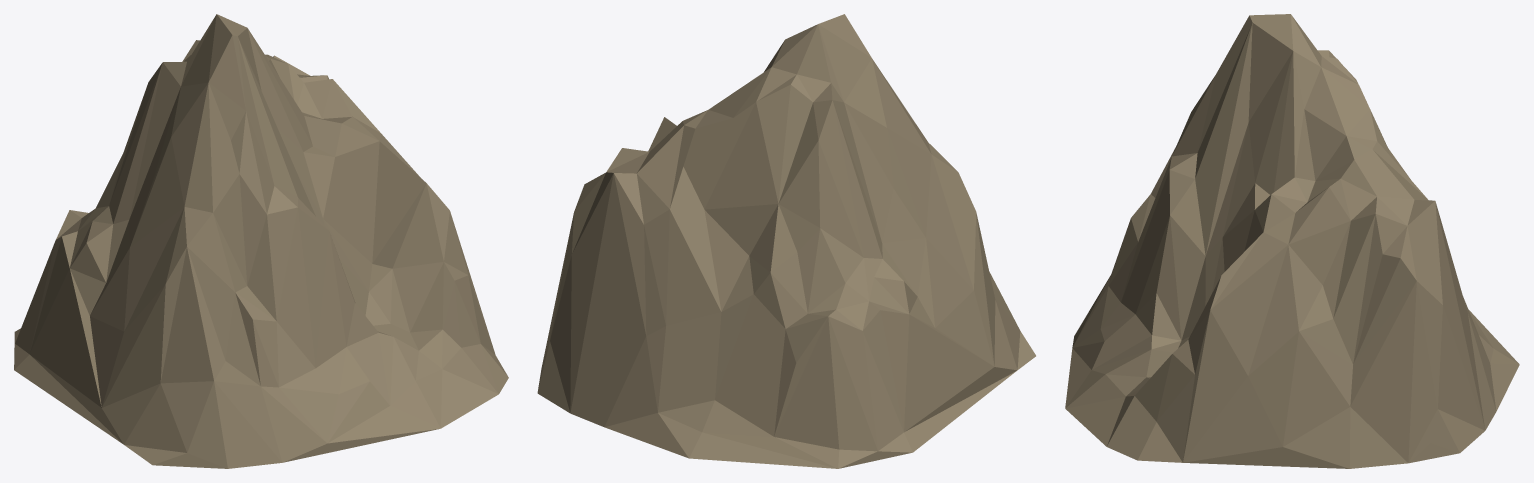
File: Mountain_2.fbx
The picture shows the model from 3 angles, left to right: view 1: azimuth 30°, elevation 25°; view 2: azimuth 150°, elevation 25°; view 3: azimuth 270°, elevation 25°; orthographic projection. The views are drawn at different scales.
Parts seen in each view (by area): view 1: Mountain_2; view 2: Mountain_2; view 3: Mountain_2.
Part boxes in pixels (x1,y1,x2,y2): Mountain_2: [14, 14, 508, 468]; Mountain_2: [537, 14, 1035, 468]; Mountain_2: [1065, 14, 1519, 468].
Size of the model in its own units: 496 by 445 by 529.
